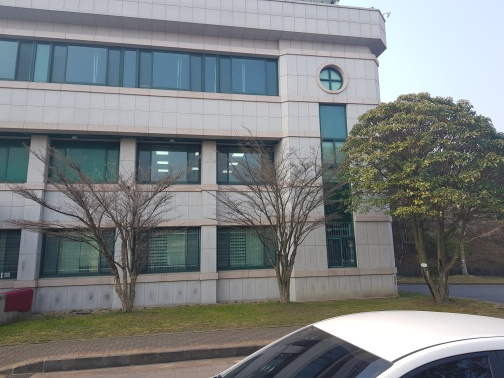Information Telecommunication Center: (14, 13, 393, 303), (277, 3, 397, 297)
